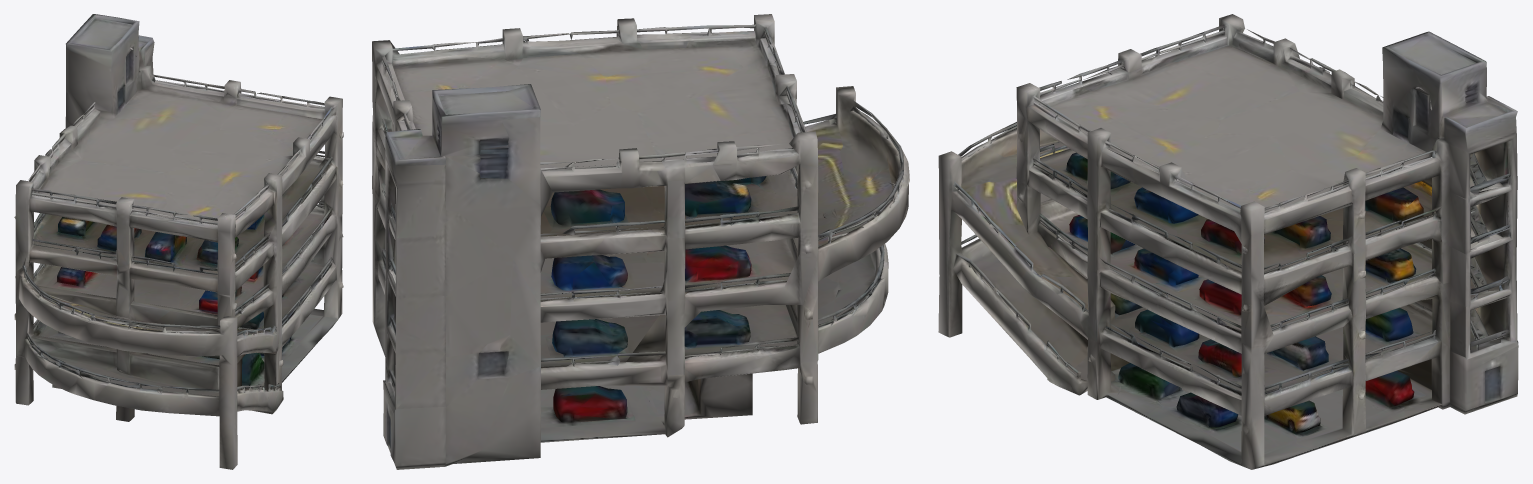
The model's file is parking.glb.
3 renders of one model, left to right at view 1: azimuth 30°, elevation 25°; view 2: azimuth 150°, elevation 25°; view 3: azimuth 270°, elevation 25°, orthographic. The views are drawn at different scales.
Visible parts, largest first — view 1: tripo_node_904016ad-b886-433e-920a-71f5371e06ed; view 2: tripo_node_904016ad-b886-433e-920a-71f5371e06ed; view 3: tripo_node_904016ad-b886-433e-920a-71f5371e06ed.
Part boxes in pixels (x1,y1,x2,y2): tripo_node_904016ad-b886-433e-920a-71f5371e06ed: (14, 14, 343, 469); tripo_node_904016ad-b886-433e-920a-71f5371e06ed: (372, 14, 909, 469); tripo_node_904016ad-b886-433e-920a-71f5371e06ed: (938, 14, 1518, 469).
Size of the model in its own units: 0.909 by 0.6768 by 1.09.
1 material, 1 textured.
